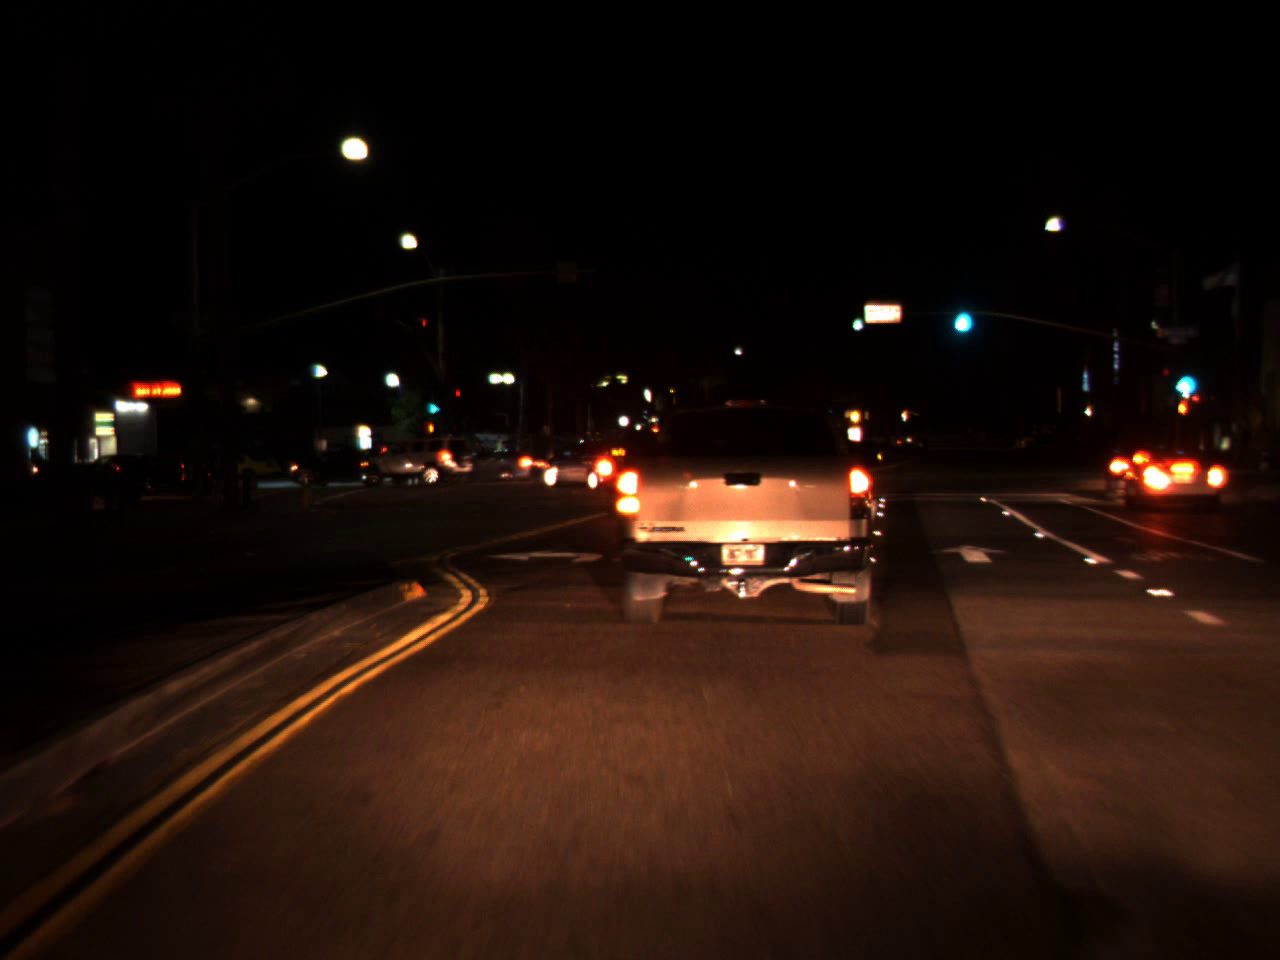go: (947, 287, 975, 341), (1170, 354, 1198, 399), (422, 386, 443, 422), (848, 305, 864, 335)
